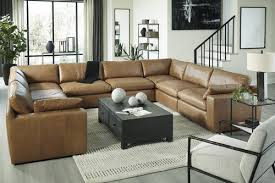Chair: (183, 118, 275, 183)
Lamp: (243, 47, 275, 95)
Sofa: (0, 45, 210, 103), (7, 63, 87, 161), (149, 57, 257, 129)
Table: (93, 92, 171, 148), (235, 92, 275, 139)
curtain: (80, 0, 111, 61)
